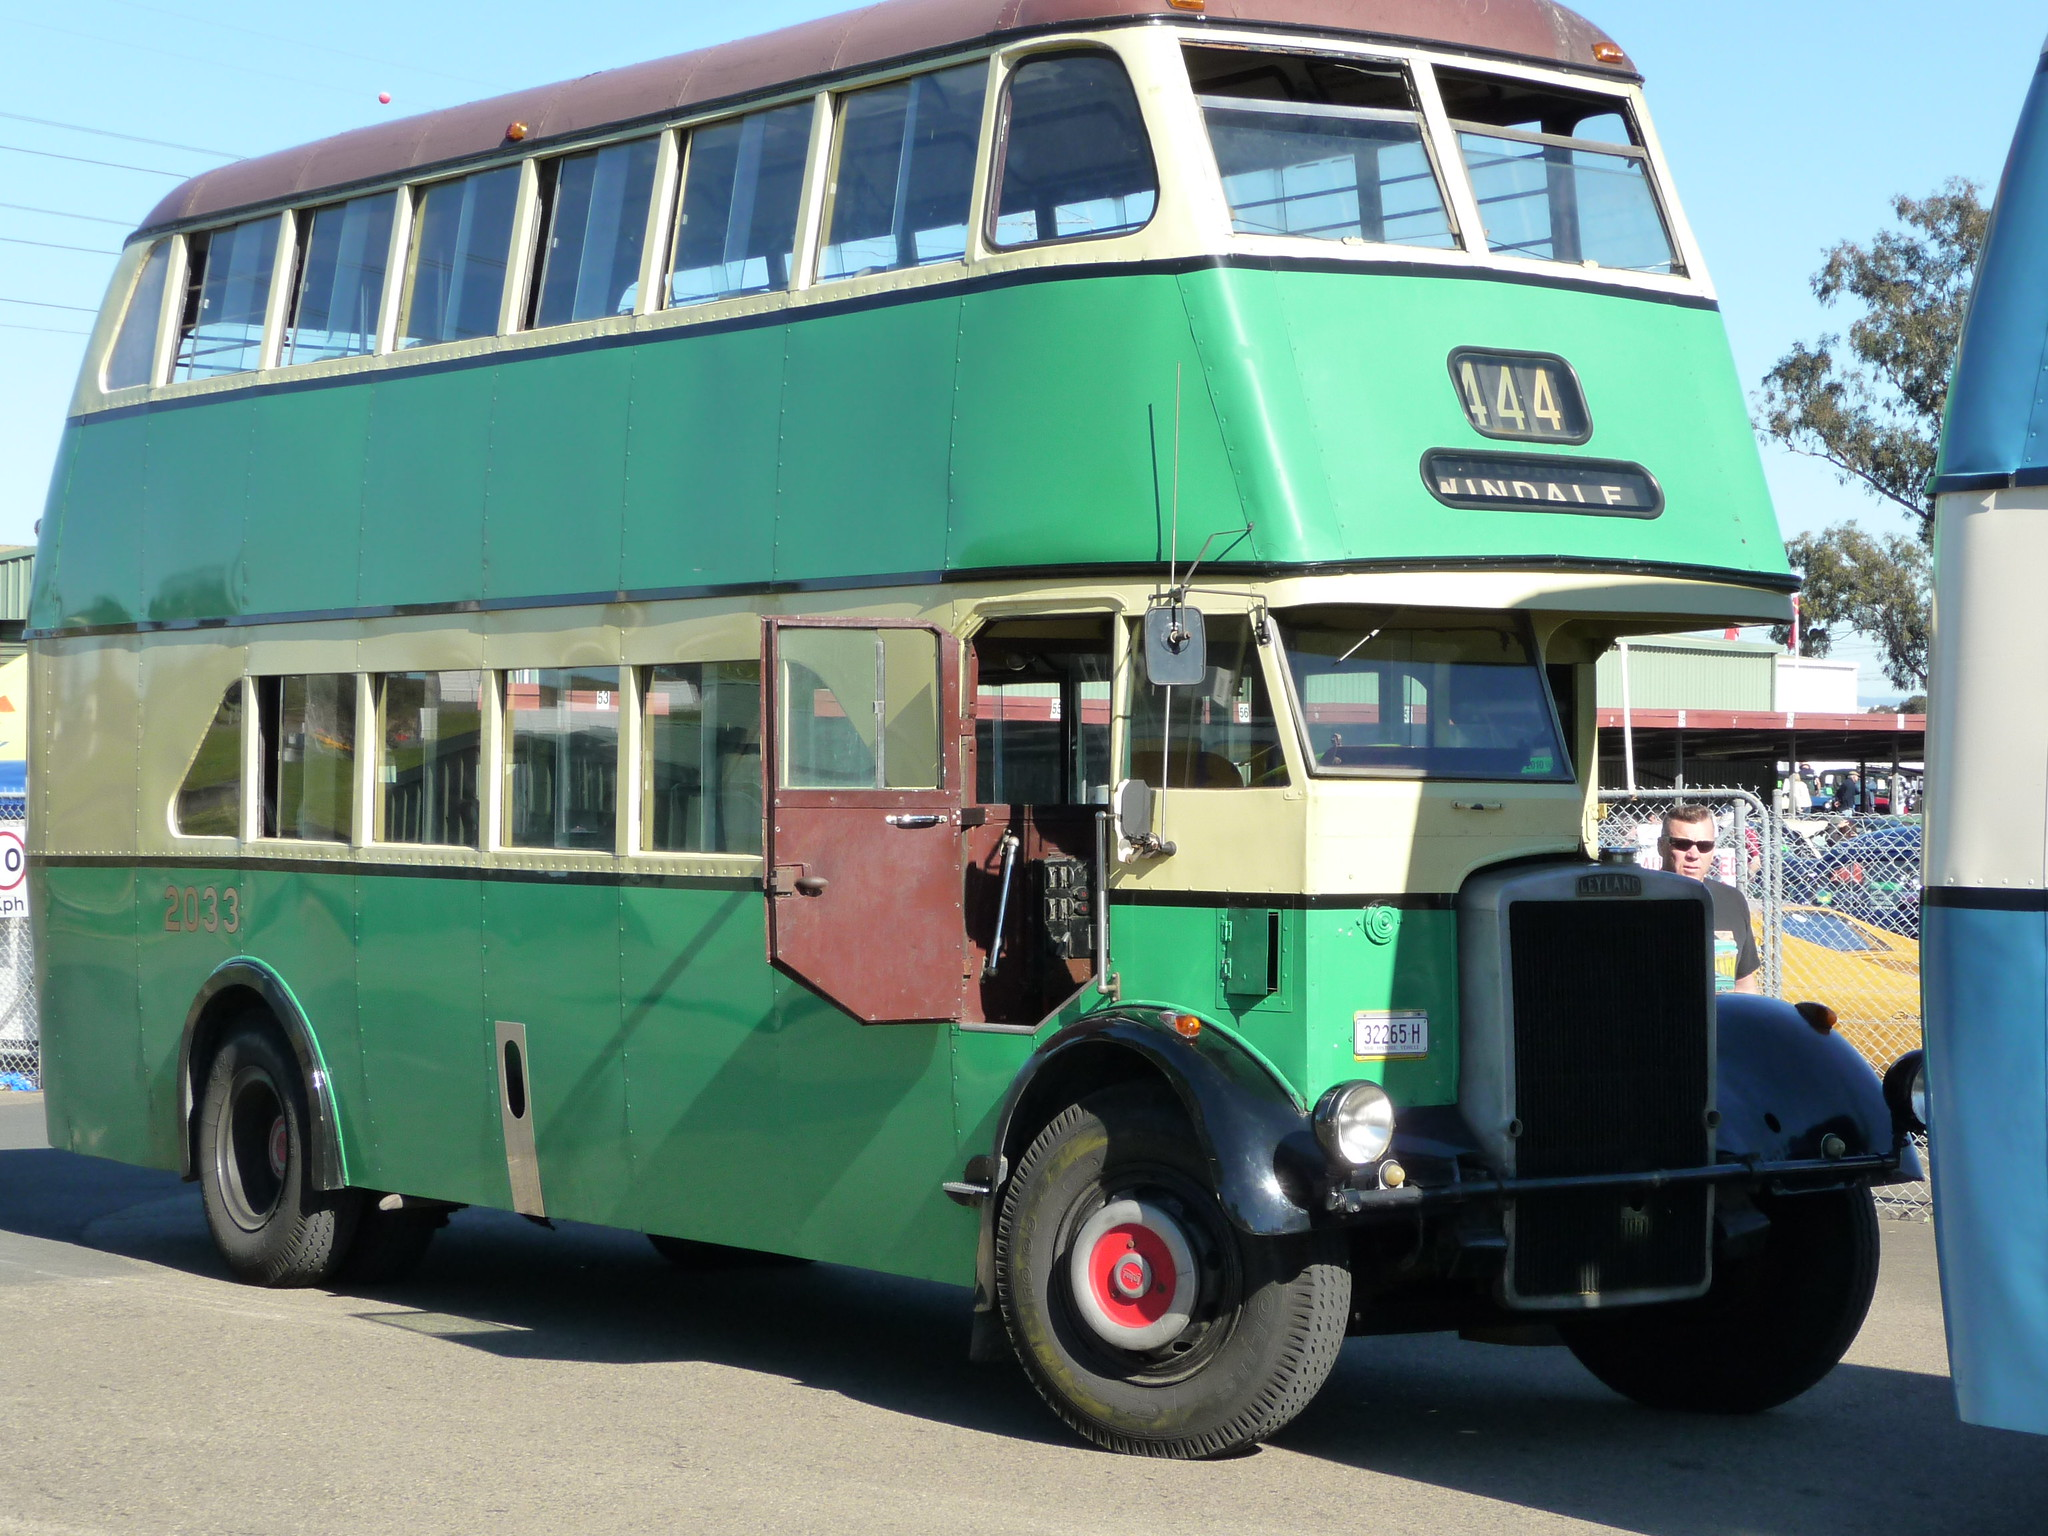bus: (44, 32, 1925, 1428)
